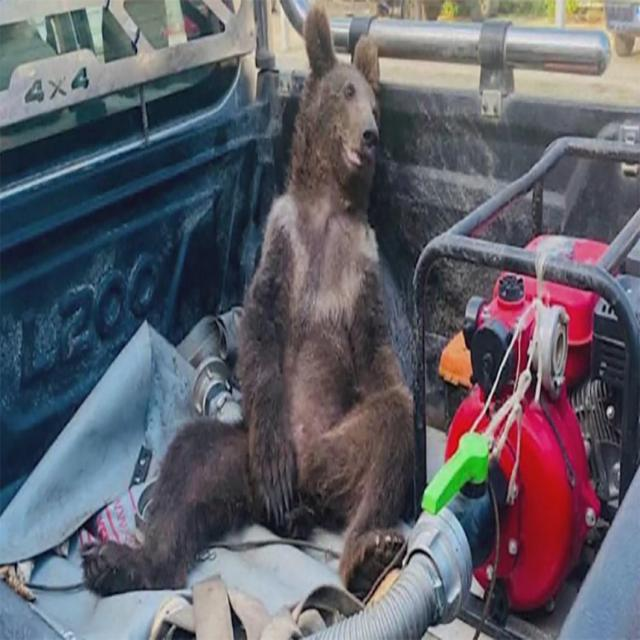Bear: (82, 9, 419, 606)
